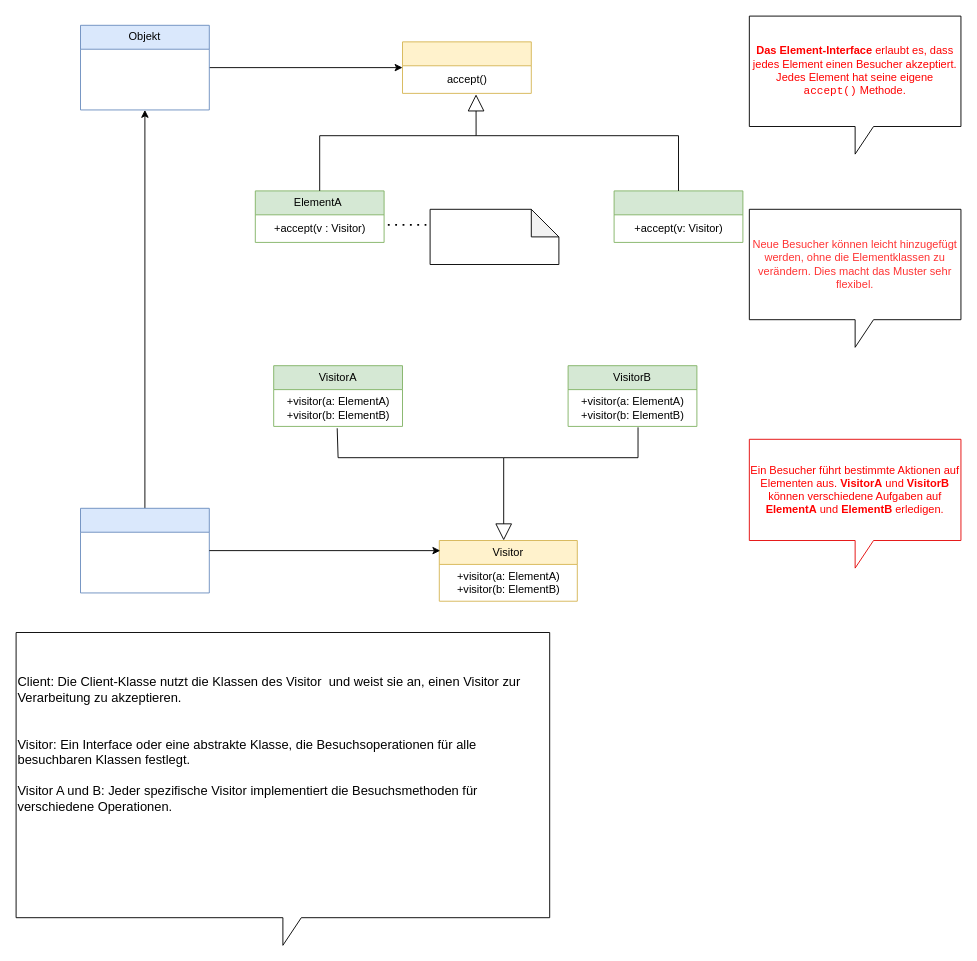
Image size: 977x961. Some labels were removed from this diagram. The shapes that lost their labels are listed below. From the top down, each one's box as (x1, y1, x2, y2) in pixels, then its label:
(402, 41, 531, 93): <<interface>> Element
(429, 208, 559, 264): v.visitor(this)
(613, 190, 743, 242): ElementB
(80, 507, 209, 593): Cleint
